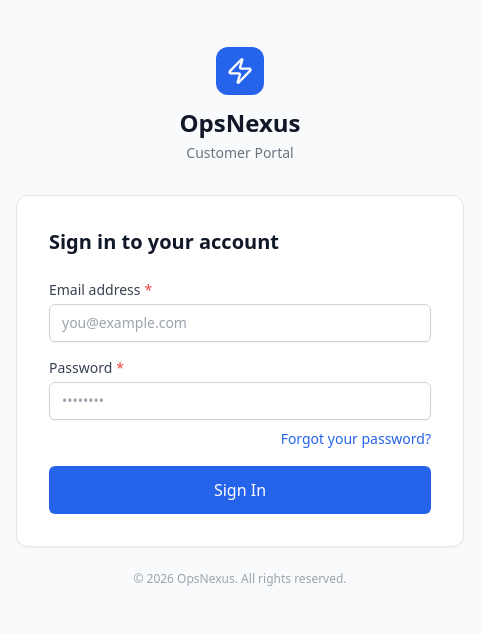
Test case: LoginPage › shows server error message when login fails
This screenshot has width=481, height=634.
Type "test@example.com" into the field labelled "Email address*".
click(240, 323); type("test@example.com")  # box [49,304,431,342]
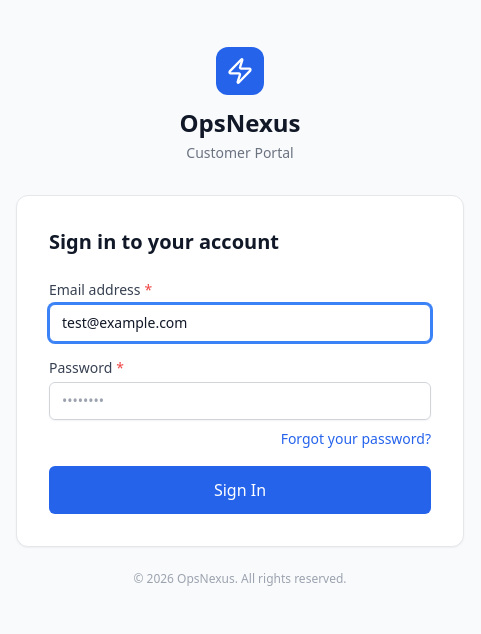
Type "wrongpass" into the password field labelled "Password*".
click(240, 401); type("wrongpass")  # box [49,382,431,420]
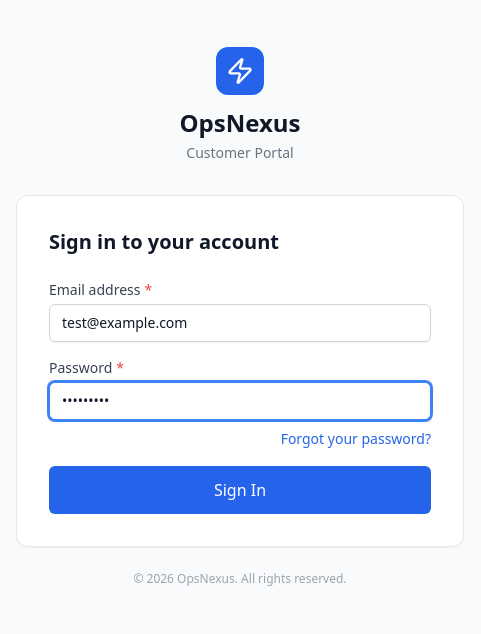
Click the button "Sign In".
click(240, 490)  # box [49,466,431,514]
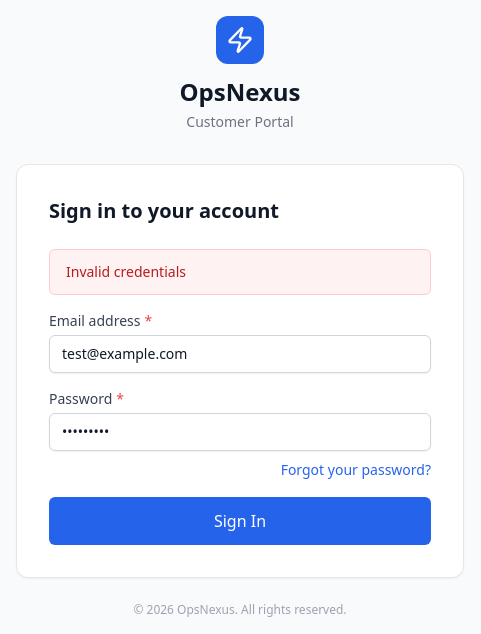
Expected: the text "Invalid credentials" is shown, [49,249,431,295]
